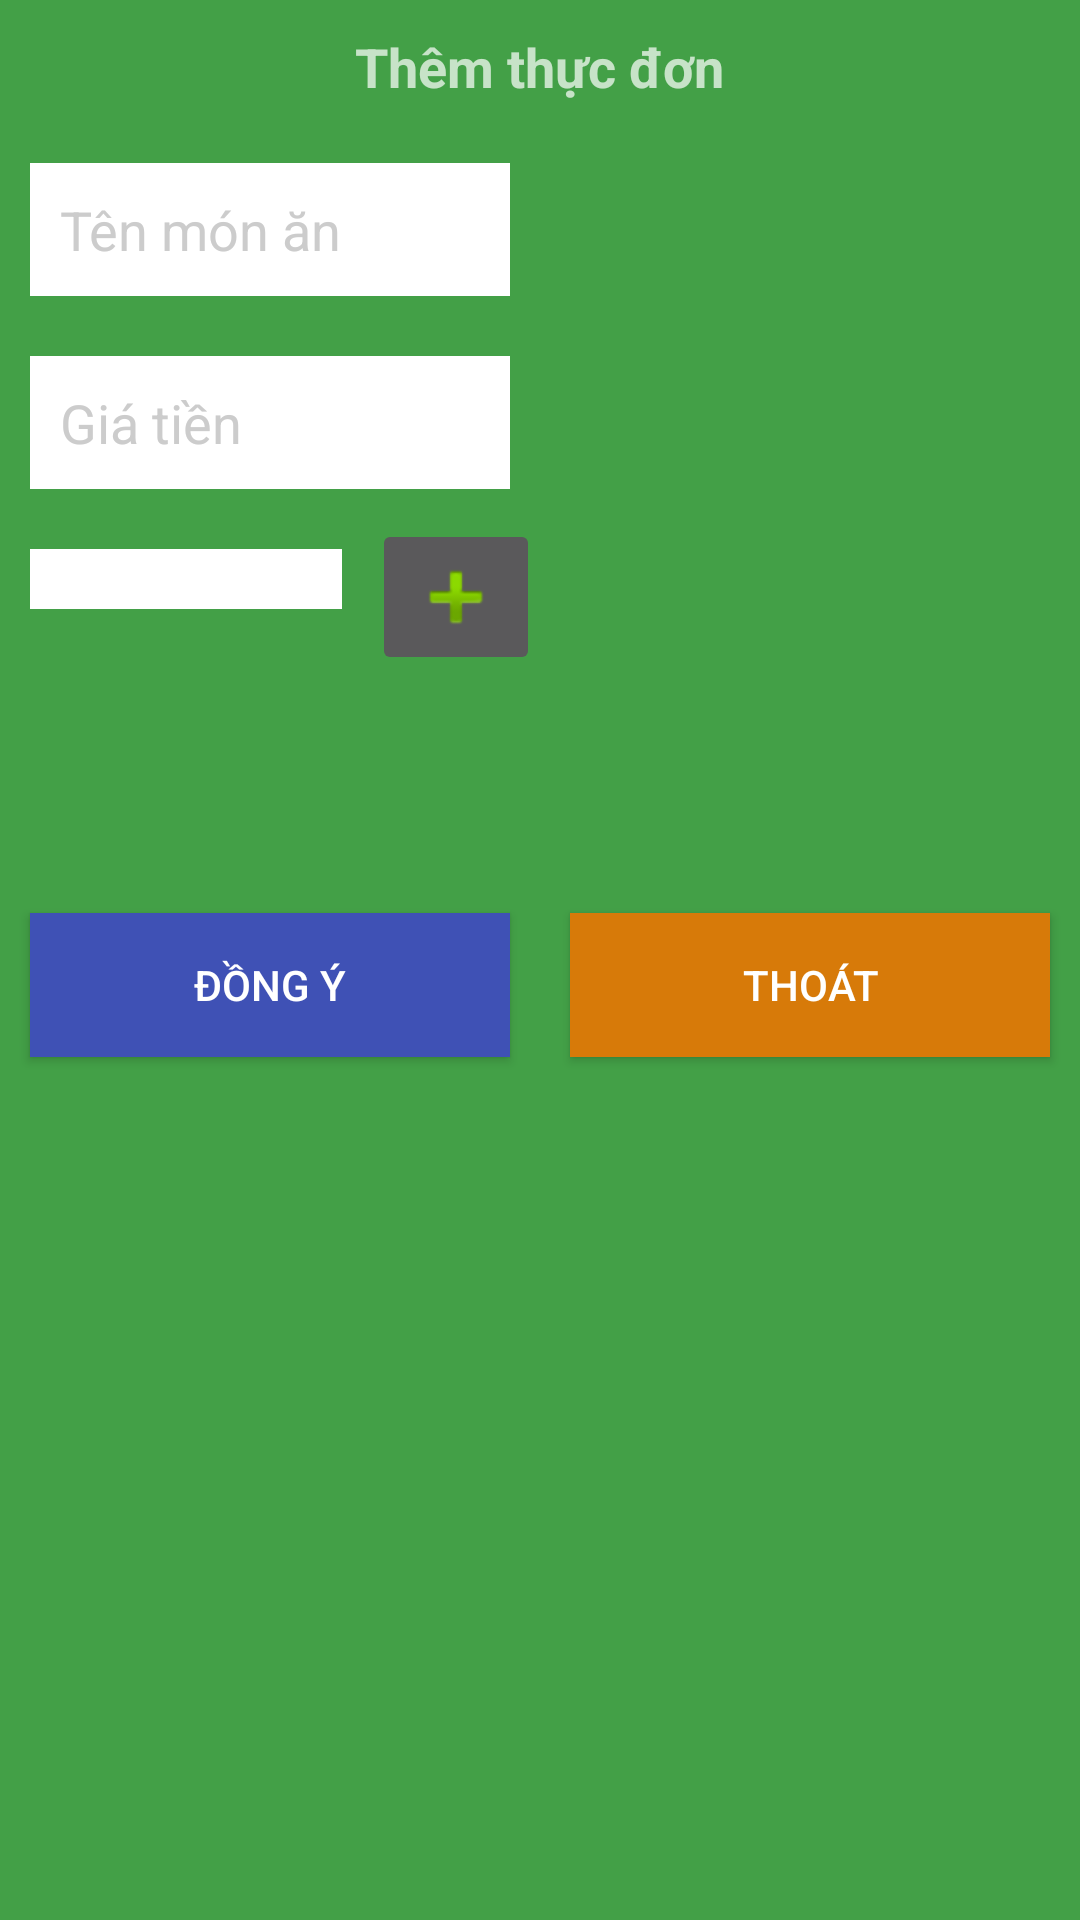

Where icons sit on this 1080px×1920px app screen, as [x1=x1, y1=y1, x2=x2, y2=y2]:
add: [x1=384, y1=537, x2=528, y2=657]
